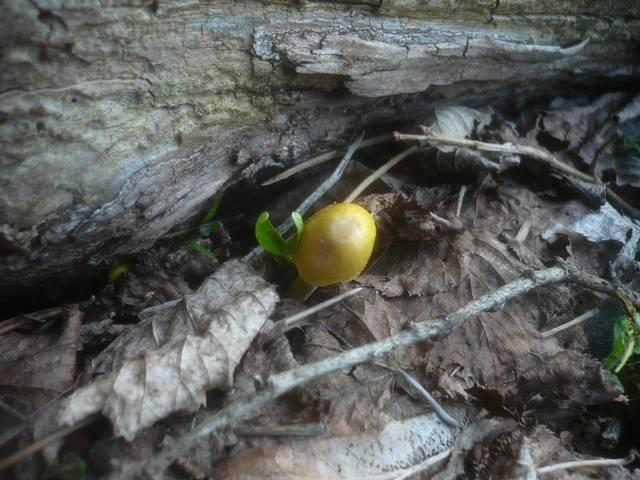edible_mushroom: (293, 201, 377, 287)
